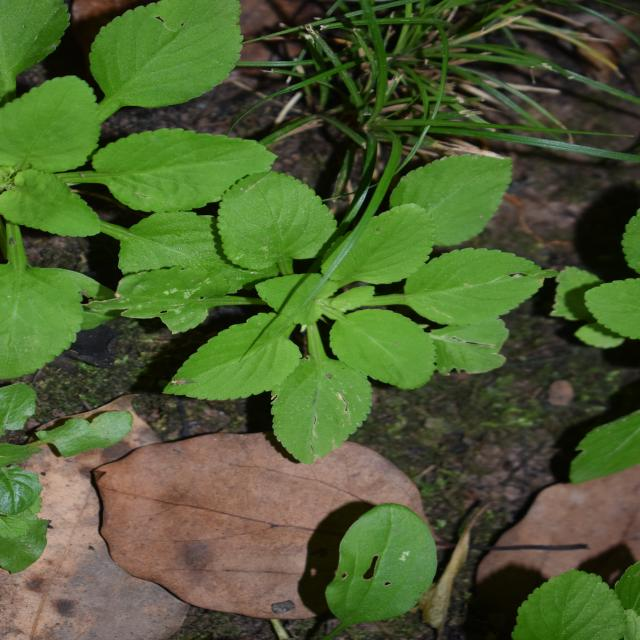Viola: (169, 97, 417, 471)
